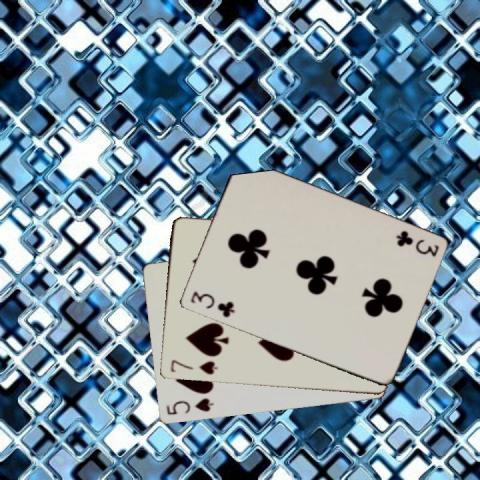3c: (187, 288, 236, 319), (393, 227, 440, 258)
5s: (162, 395, 214, 417)
7s: (167, 357, 219, 376)
